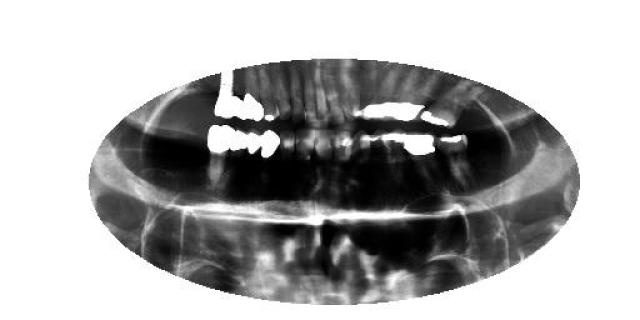Fillings: (422, 80, 483, 132), (394, 68, 440, 124), (400, 130, 435, 199), (432, 131, 470, 185), (205, 124, 233, 188), (365, 68, 395, 118), (238, 67, 262, 121), (382, 132, 408, 176), (258, 68, 278, 124), (258, 130, 282, 162), (228, 130, 248, 161), (244, 130, 261, 162)
Implant: (209, 70, 240, 118)
